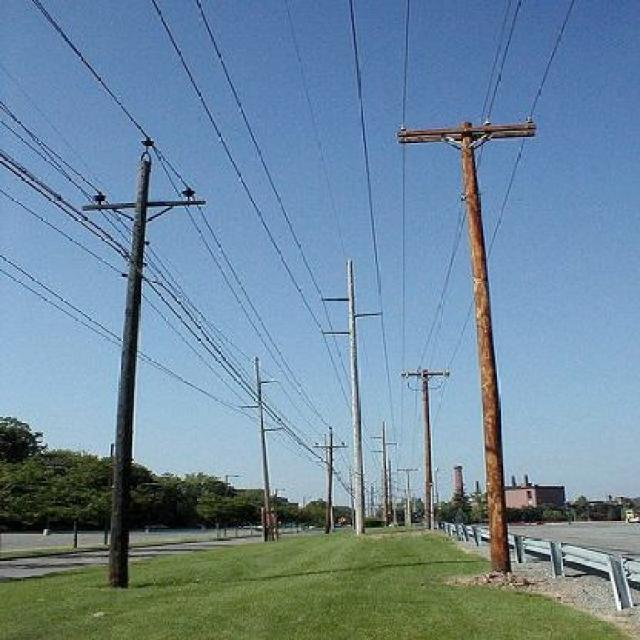crossarm: (397, 120, 538, 151)
pole: (460, 120, 508, 575)
wire: (0, 148, 261, 404)
